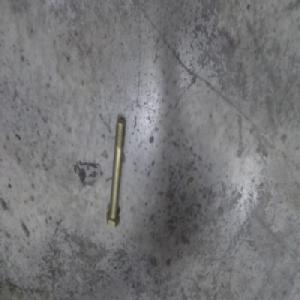Bolt: (105, 117, 127, 234)
